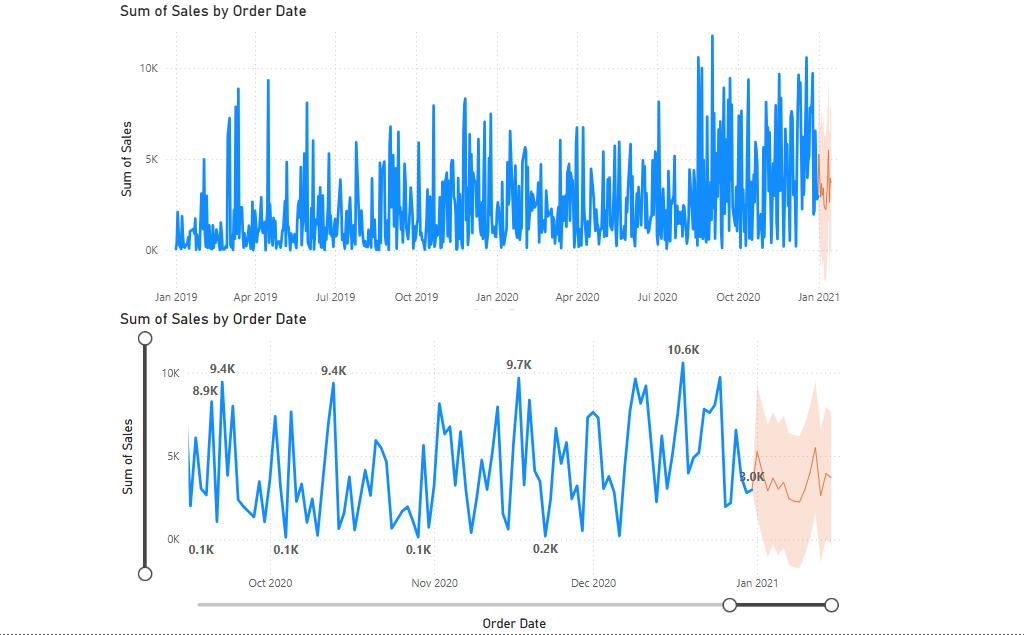

What the dashboard file says about the page in this screenshot:
{"tool":"powerbi","page":{"name":"Page 2","canvas":[1280,720],"ordinal":1},"visuals":[{"type":"lineChart","fields":{"Y":["Sum(SuperStore_Sales_Dataset.Sales)"],"Category":["SuperStore_Sales_Dataset.Order Date"]},"box":[182.5,26.1,815.1,356.8],"z":0},{"type":"lineChart","fields":{"Y":["Sum(SuperStore_Sales_Dataset.Sales)"],"Category":["SuperStore_Sales_Dataset.Order Date"]},"box":[182.5,363.6,815.1,356.8],"z":1}]}

Visuals, with their boxes on the page's 1280x720 design canvas (x1, y1, x2, y2). These are canvas units, not pixel positions in the 1024x635 screenshot, which may show the page scaled, cropped or inside an application window:
lineChart - Sum(SuperStore_Sales_Dataset.Sales) x SuperStore_Sales_Dataset.Order Date: bbox(182, 26, 998, 383)
lineChart - Sum(SuperStore_Sales_Dataset.Sales) x SuperStore_Sales_Dataset.Order Date: bbox(182, 364, 998, 720)
